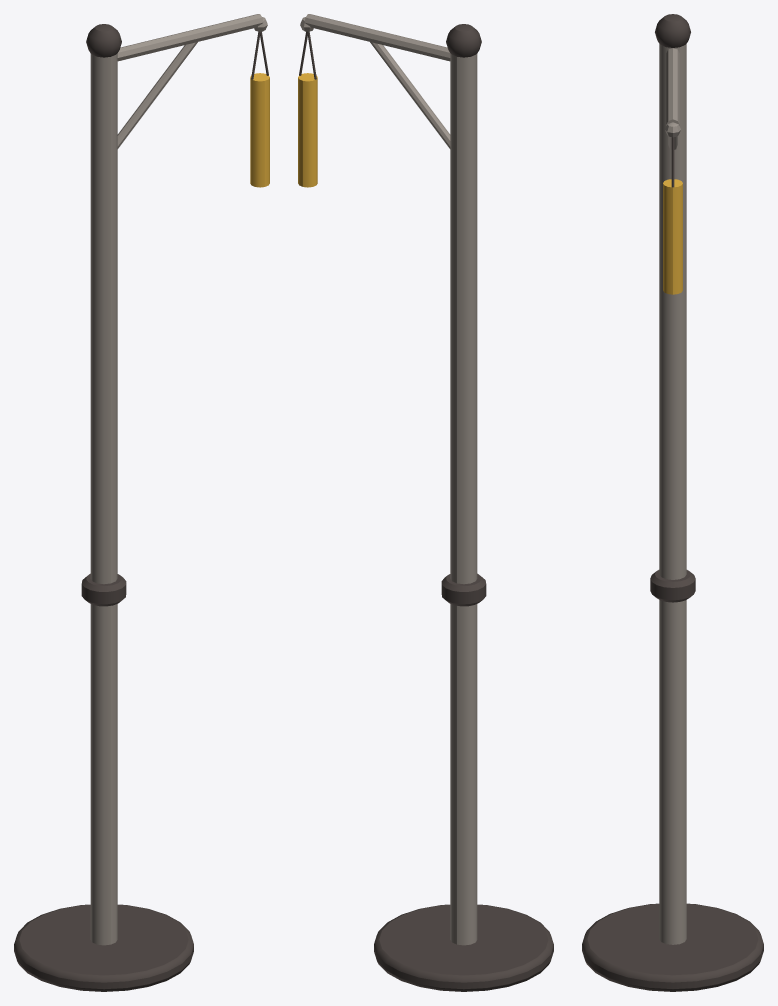
Rendered from prop_telltale.glb.
The picture shows the model from 3 angles, left to right: view 1: azimuth 30°, elevation 25°; view 2: azimuth 150°, elevation 25°; view 3: azimuth 270°, elevation 25°; orthographic projection.
Visible parts, largest first — view 1: mast-convcol, detail-col, tell; view 2: mast-convcol, detail-col, tell; view 3: mast-convcol, detail-col, tell.
Boxes of the visible parts, box(x1,y1,x2,y2) form: mast-convcol: box(90, 53, 117, 945); detail-col: box(14, 14, 267, 991); tell: box(250, 31, 269, 187); mast-convcol: box(450, 53, 477, 945); detail-col: box(300, 14, 553, 991); tell: box(298, 31, 317, 187); mast-convcol: box(659, 44, 686, 944); detail-col: box(582, 14, 763, 991); tell: box(663, 137, 682, 294).
Bounding box in the file's own units: 0.623 × 2.28 × 0.4.
